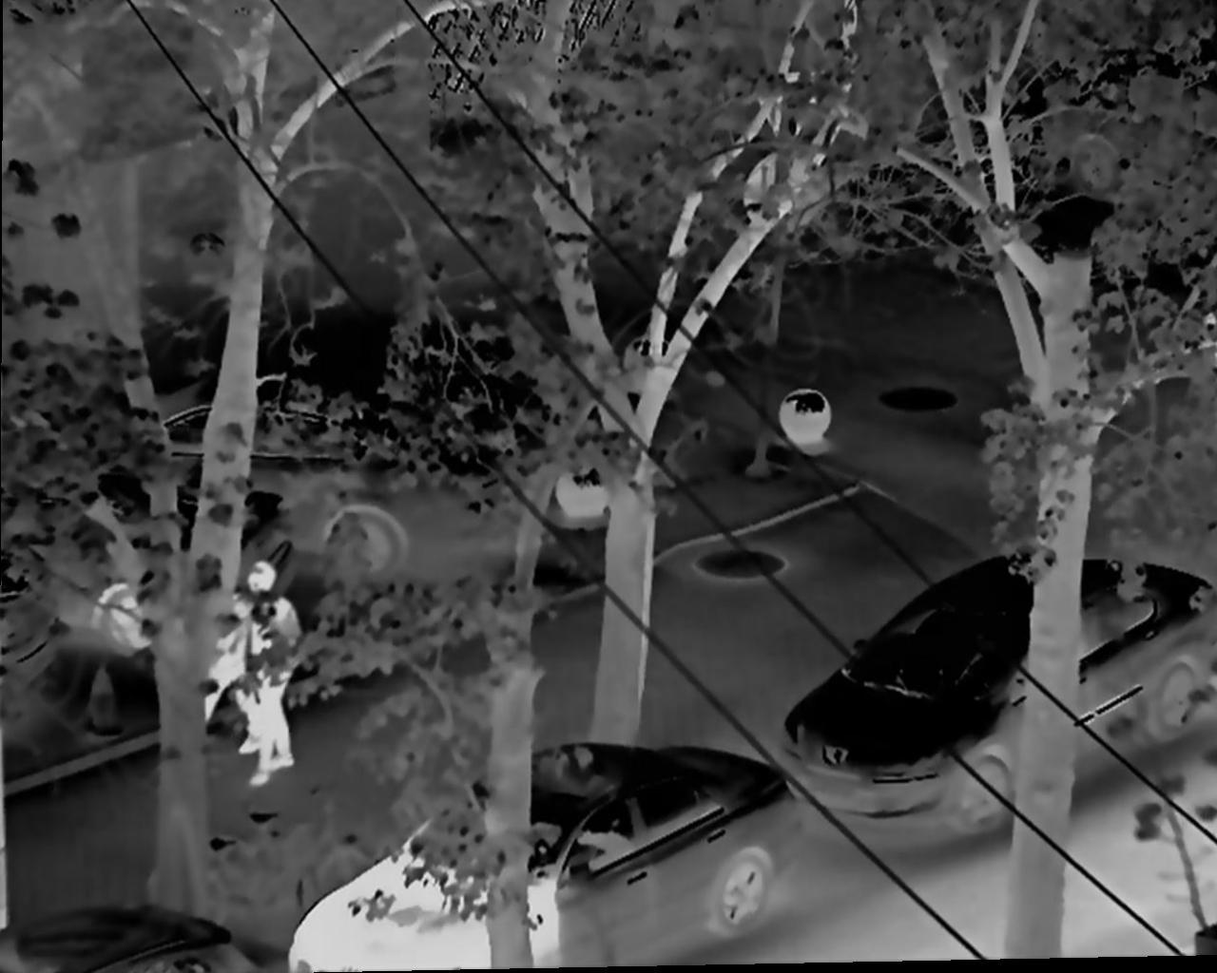person: (228, 555, 299, 786), (182, 568, 257, 761)
